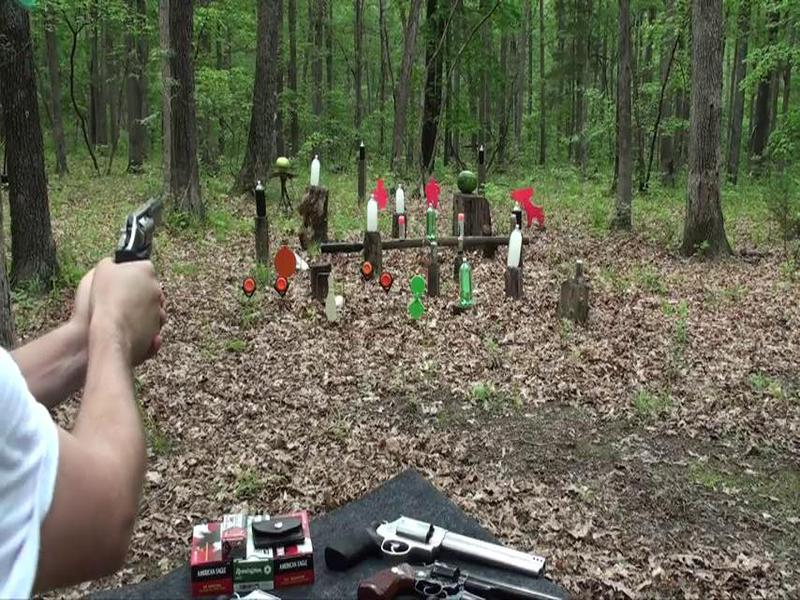Revolver: (114, 182, 165, 280)
